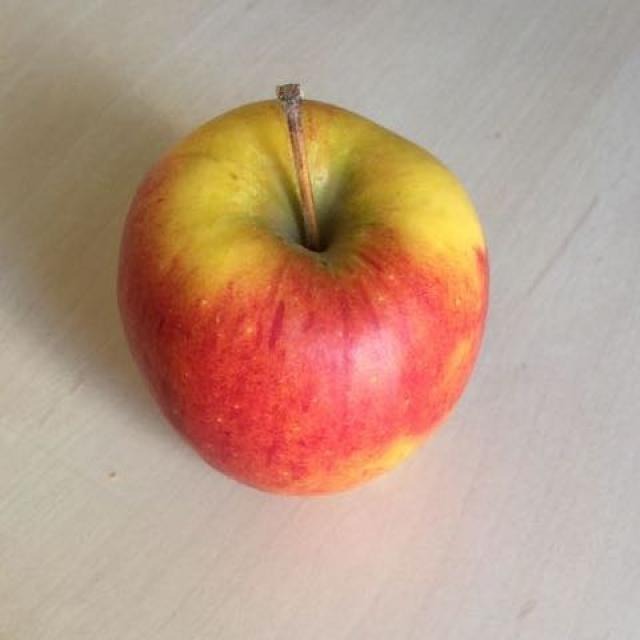apple: (119, 113, 489, 494)
